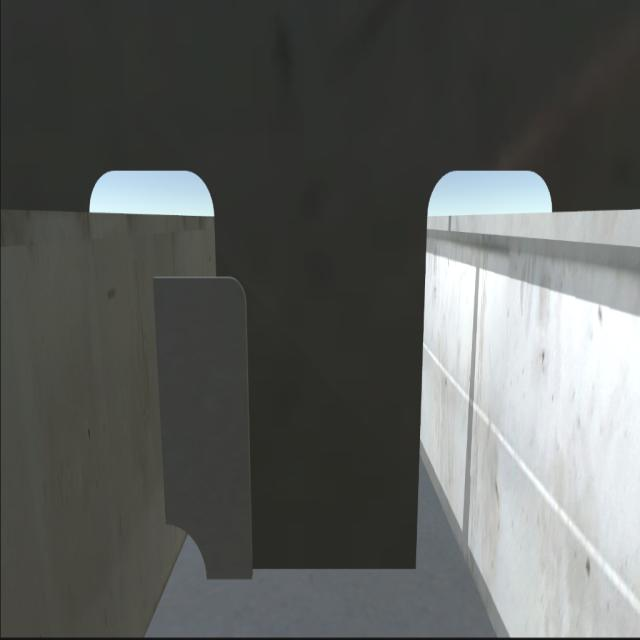fillet_hole: (170, 523, 211, 584)
fillet_yong_jeop_jang: (206, 552, 422, 586)
longi_yong_jeop_jang: (149, 265, 172, 526)
plate_CP05: (155, 282, 252, 577)
